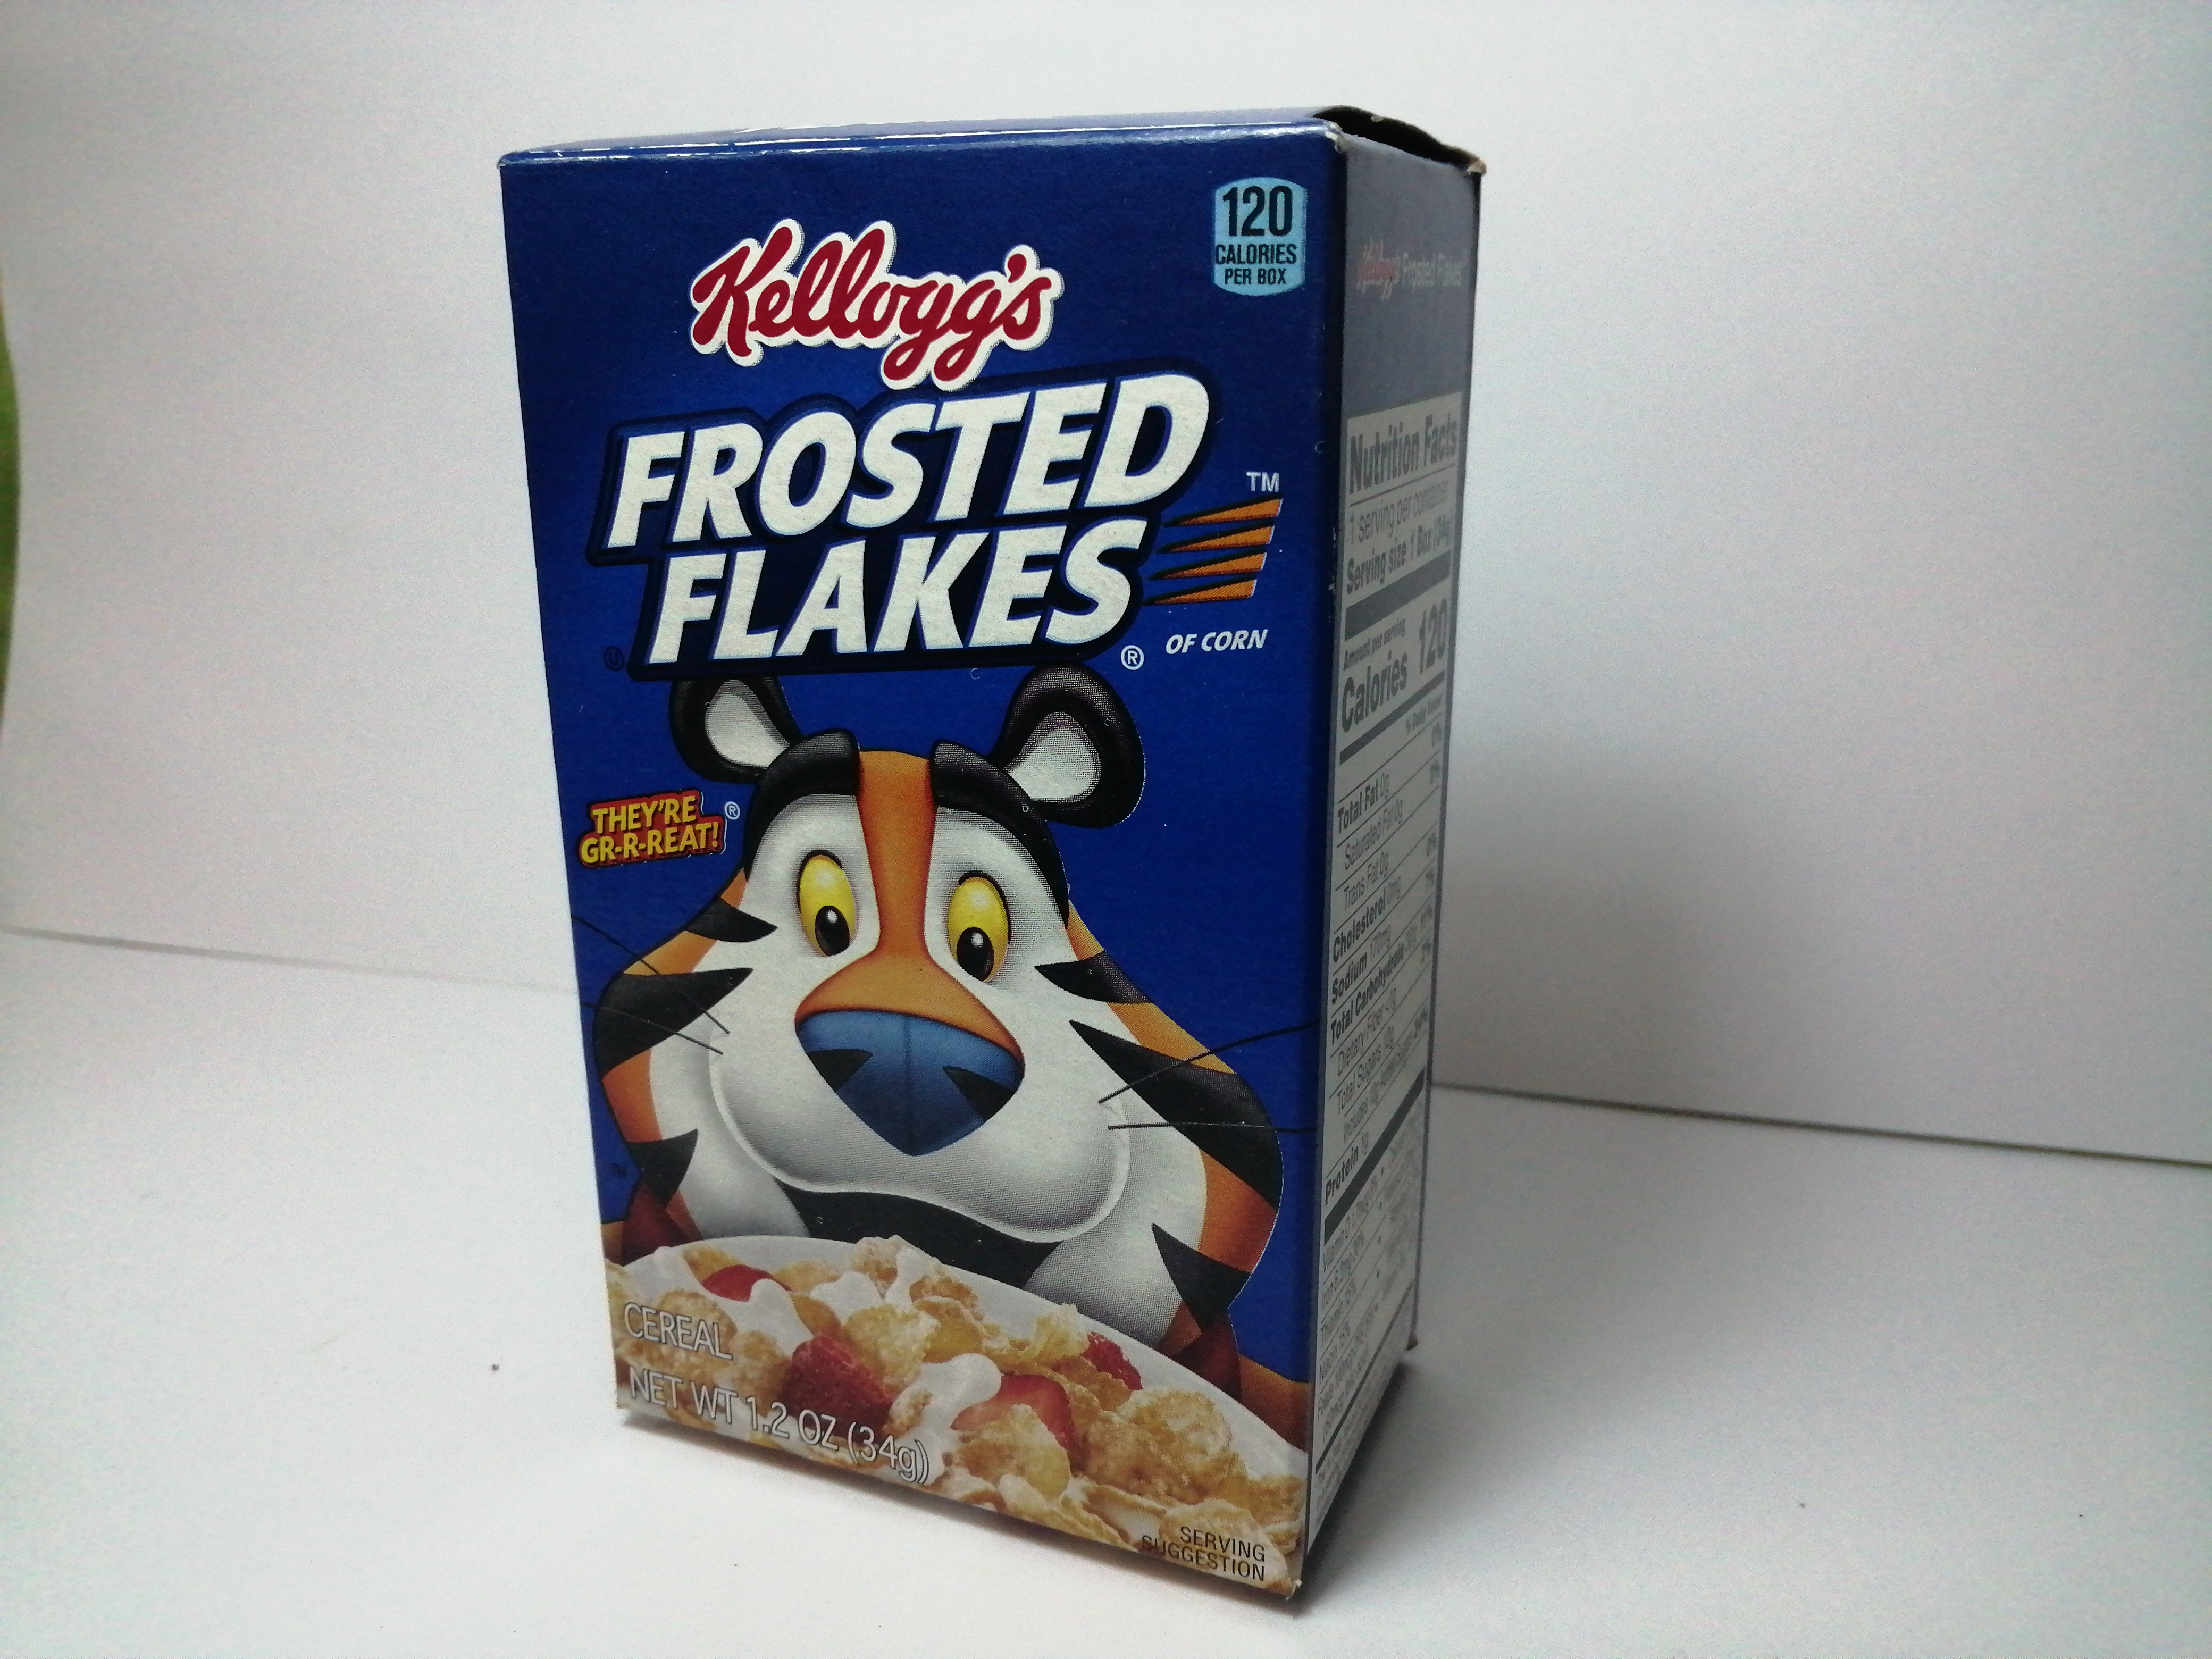cereal azucarado: (484, 40, 1547, 1624)
